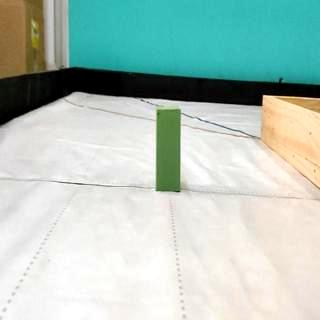greenbox: (154, 108, 180, 192)
